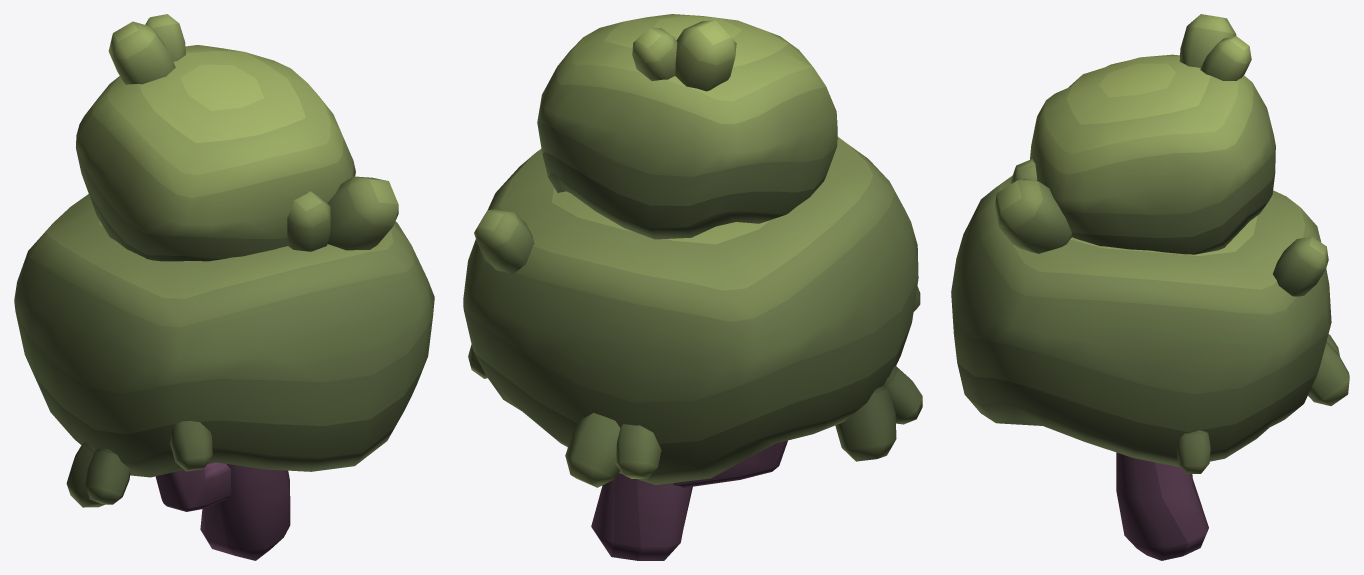
File: grassland_tree_col1_8.fbx
3 renders of one model, left to right at view 1: azimuth 30°, elevation 25°; view 2: azimuth 150°, elevation 25°; view 3: azimuth 270°, elevation 25°, orthographic. The views are drawn at different scales.
Visible parts, largest first — view 1: grassland_tree_col1_8; view 2: grassland_tree_col1_8; view 3: grassland_tree_col1_8.
Part boxes in pixels (<box>): grassland_tree_col1_8: <box>14,14,434,560</box>; grassland_tree_col1_8: <box>463,14,922,560</box>; grassland_tree_col1_8: <box>951,14,1349,560</box>.
Bounding box in the file's own units: 427 × 616 × 449.
